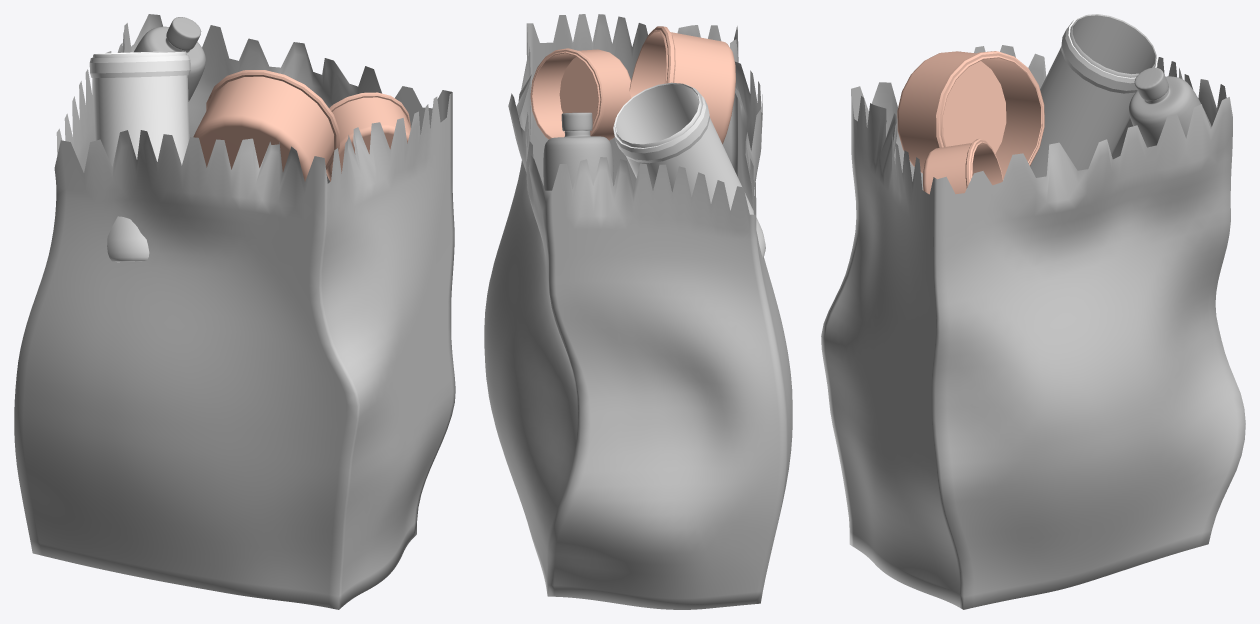
File: SM_bag_kitchen.fbx
3 renders of one model, left to right at view 1: azimuth 30°, elevation 25°; view 2: azimuth 150°, elevation 25°; view 3: azimuth 270°, elevation 25°, orthographic. The views are drawn at different scales.
Visible parts, largest first — view 1: pCube131, pCylinder158, pCylinder157, pCylinder160, polySurface74; view 2: pCube131, pCylinder158, pCylinder160, pCylinder157, polySurface74; view 3: pCube131, pCylinder157, pCylinder158, polySurface74, pCylinder160.
Boxes of the visible parts, left/top/right/bottom form: pCube131: left=14, top=14, right=455, bottom=609; pCylinder158: left=89, top=51, right=190, bottom=262; pCylinder157: left=193, top=70, right=339, bottom=181; pCylinder160: left=326, top=92, right=410, bottom=181; polySurface74: left=134, top=17, right=205, bottom=101; pCube131: left=484, top=14, right=792, bottom=609; pCylinder158: left=613, top=82, right=765, bottom=258; pCylinder160: left=530, top=48, right=631, bottom=140; pCylinder157: left=629, top=26, right=735, bottom=144; polySurface74: left=543, top=112, right=614, bottom=190; pCube131: left=821, top=45, right=1245, bottom=609; pCylinder157: left=897, top=51, right=1044, bottom=178; pCylinder158: left=1030, top=14, right=1157, bottom=177; polySurface74: left=1129, top=67, right=1211, bottom=147; pCylinder160: left=923, top=138, right=1003, bottom=194.
Bounding box in the file's own units: 3.54 × 4.68 × 3.69.
